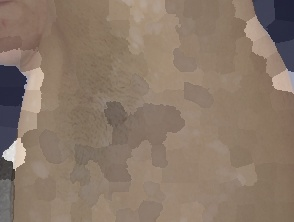vitiligo: (24, 0, 253, 222)
